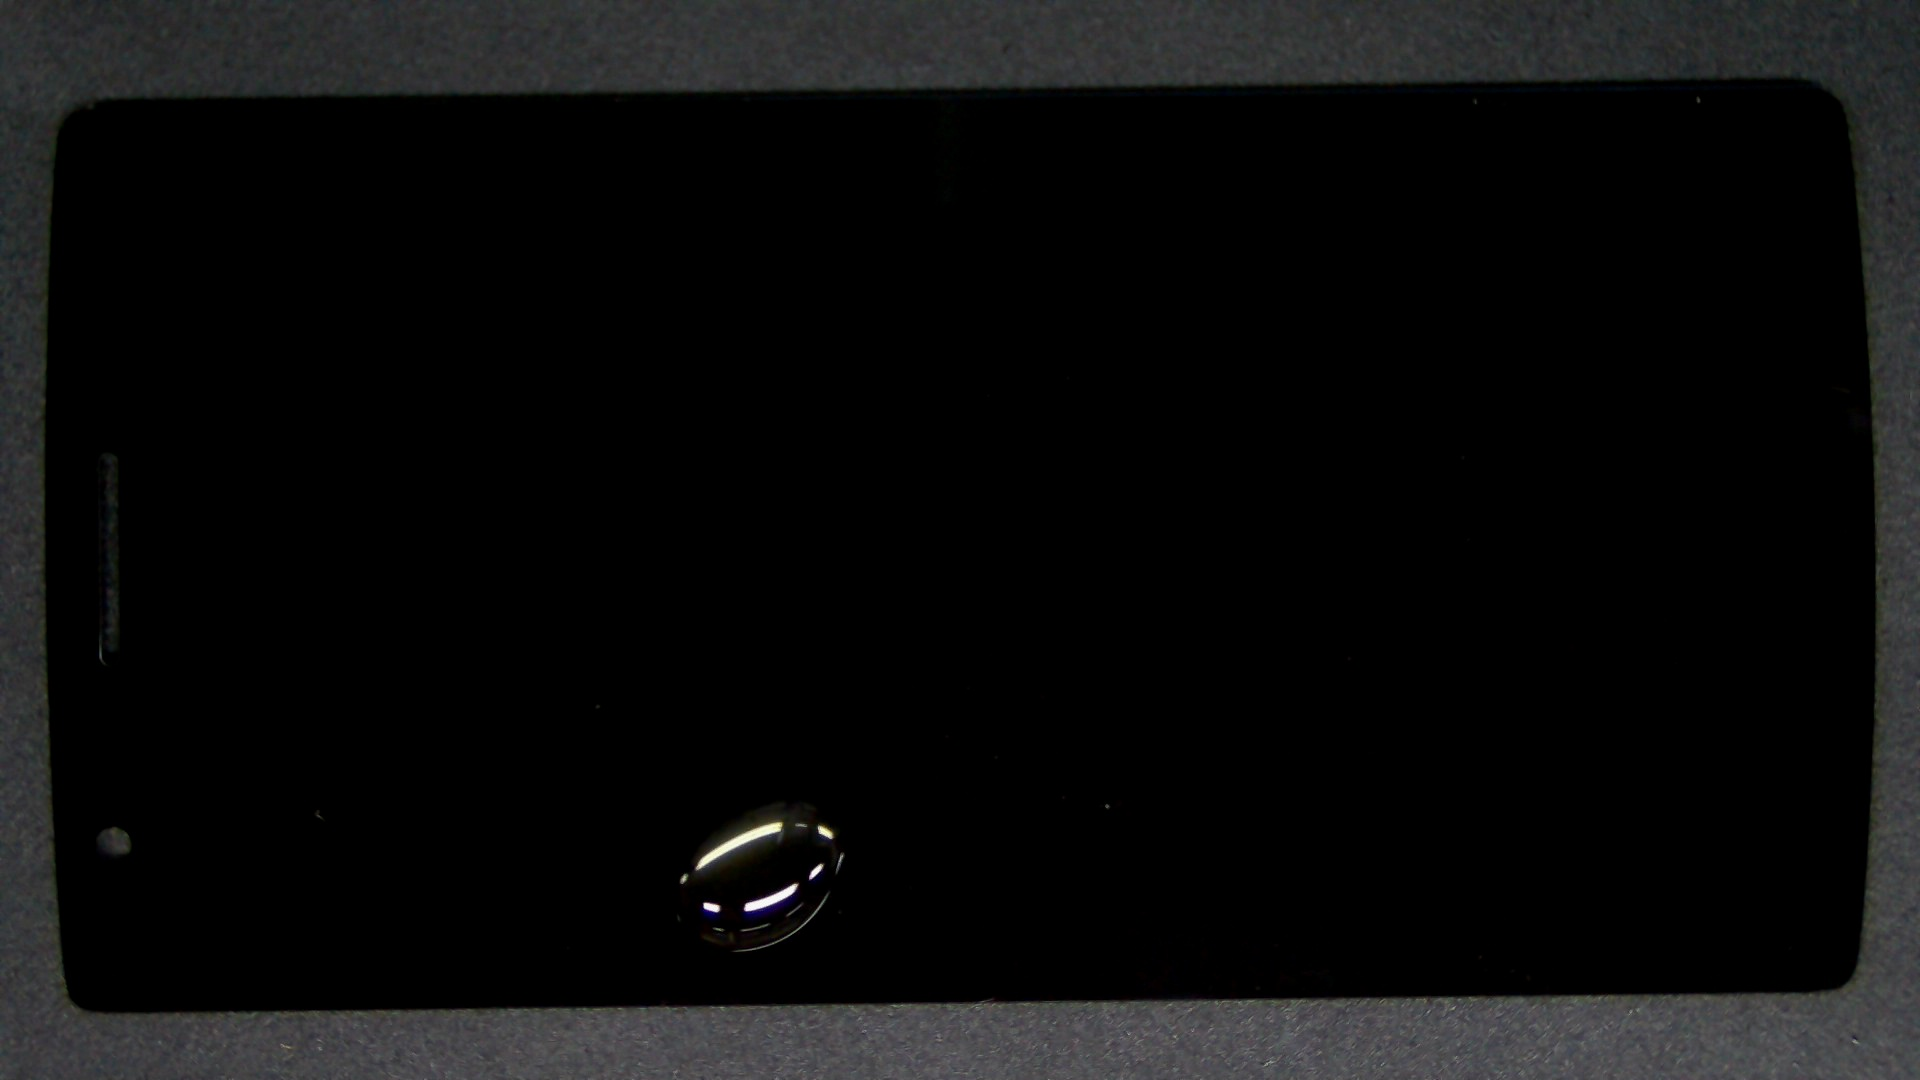oil: (397, 398, 1189, 1080)
